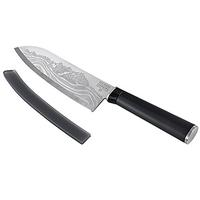knife: (2, 35, 198, 149)
